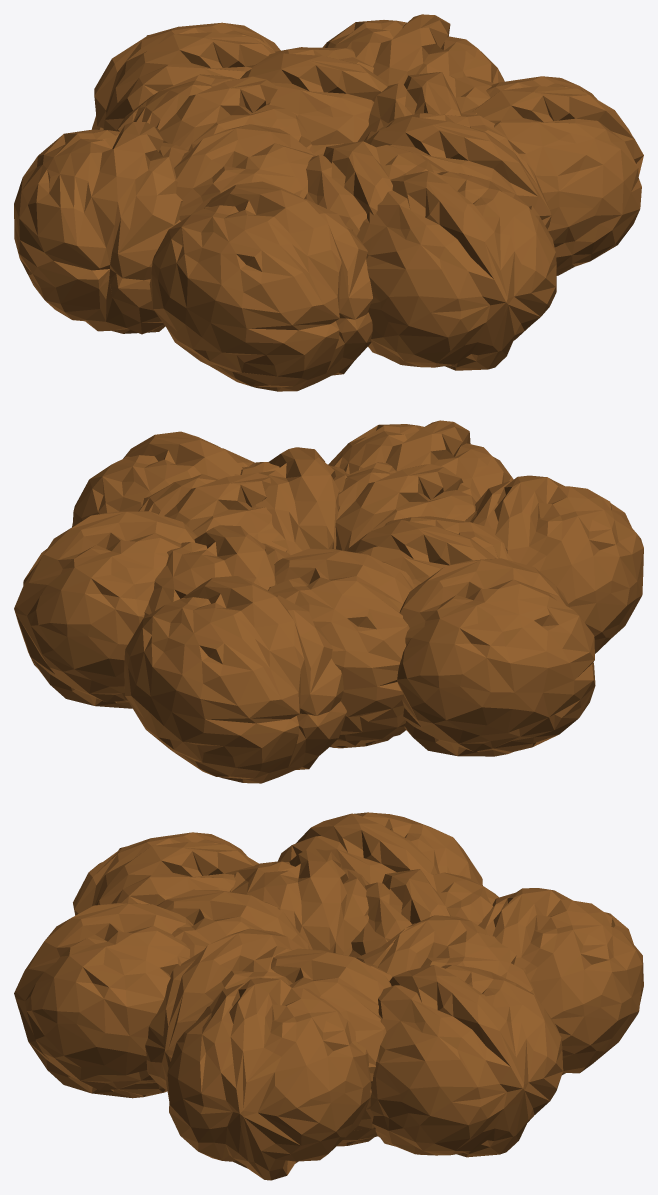
The model's file is Walnut.fbx.
3 renders of one model, top to bottom at view 1: azimuth 30°, elevation 25°; view 2: azimuth 150°, elevation 25°; view 3: azimuth 270°, elevation 25°, orthographic. The views are drawn at different scales.
Parts seen in each view (by area): view 1: nut scan.001, nut scan.003, nut scan.004; view 2: nut scan.003, nut scan.004, nut scan.001; view 3: nut scan.004, nut scan.003, nut scan.001.
Part boxes in pixels (x1,y1,x2,y2): nut scan.001: [14, 47, 643, 334]; nut scan.003: [116, 14, 551, 391]; nut scan.004: [92, 22, 556, 370]; nut scan.003: [14, 447, 643, 748]; nut scan.004: [124, 420, 513, 783]; nut scan.001: [72, 431, 595, 756]; nut scan.004: [14, 848, 643, 1146]; nut scan.003: [73, 832, 563, 1157]; nut scan.001: [157, 812, 535, 1180].
Size of the model in its own units: 44.16 by 14.22 by 45.03.
